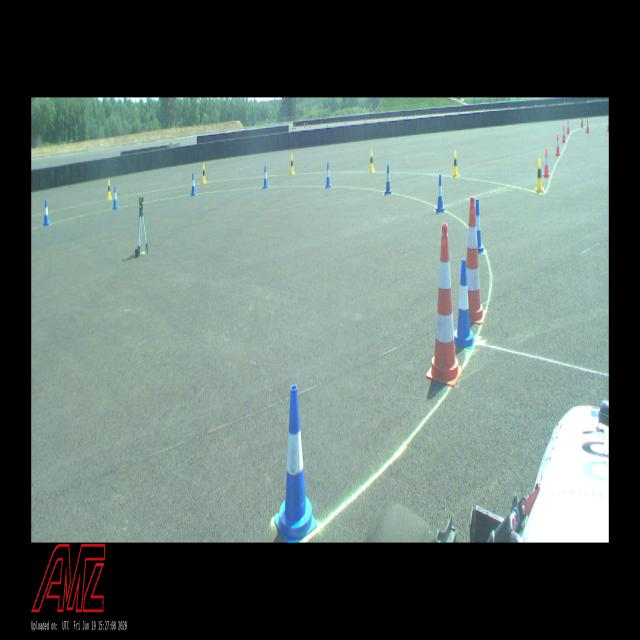blue_cone: (274, 386, 318, 542), (452, 260, 475, 349), (476, 200, 484, 253), (436, 175, 444, 212), (385, 165, 392, 194), (43, 200, 50, 225), (112, 186, 119, 208), (325, 163, 331, 188), (191, 173, 197, 196), (263, 165, 268, 188)
large_orange_cone: (426, 223, 464, 386), (466, 196, 486, 324)
orange_cone: (543, 149, 550, 177), (555, 134, 561, 155), (562, 125, 566, 142), (586, 118, 590, 133), (567, 120, 570, 134), (606, 118, 608, 132)
yellow_cone: (535, 158, 544, 192), (452, 151, 460, 177), (368, 150, 374, 172), (202, 163, 207, 183), (290, 154, 295, 174), (107, 179, 112, 199)
